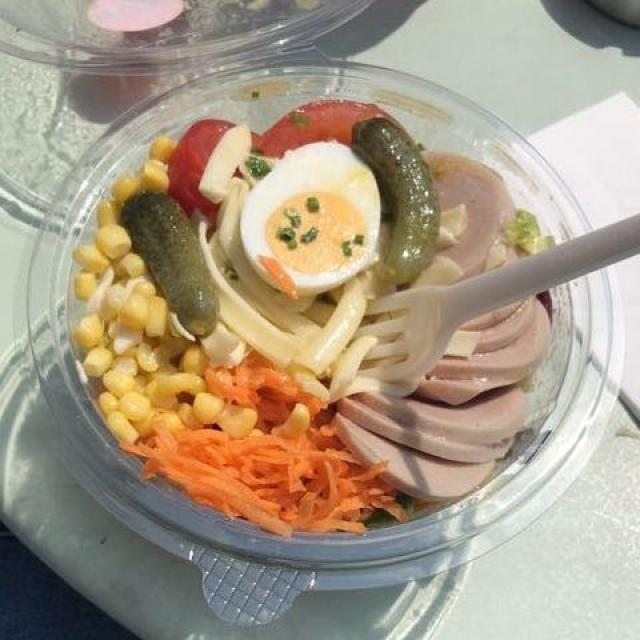asparagus: (198, 171, 374, 378)
carrot: (130, 352, 425, 530)
corn: (86, 126, 270, 450)
egg: (236, 123, 394, 283)
tomato: (174, 102, 396, 221)
